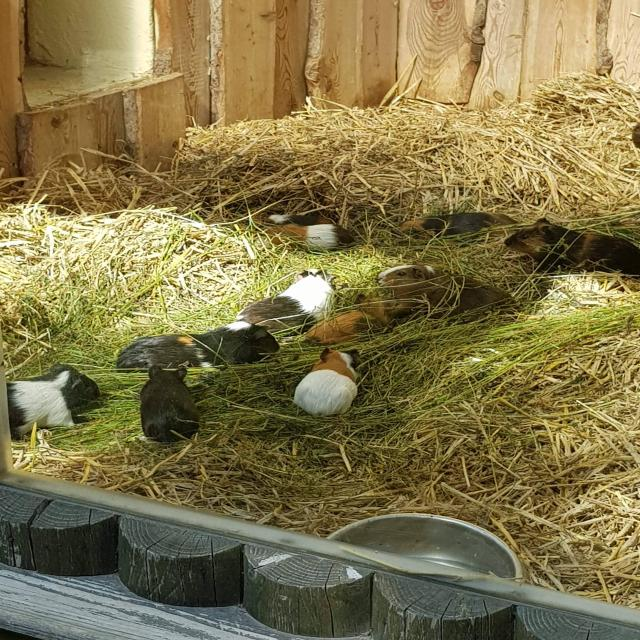guinea pig: (375, 264, 520, 326), (117, 319, 281, 369), (502, 217, 640, 276), (4, 362, 103, 437), (233, 267, 332, 331), (305, 294, 416, 346), (292, 344, 363, 418), (138, 364, 202, 444), (395, 209, 511, 244), (258, 222, 361, 252)
